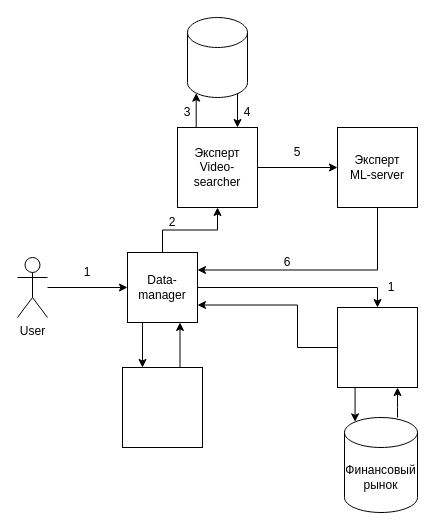
Image size: 439x530. Some labels were removed from this diagram. The shapes that lost their labels are listed below. From the top down, each one's centre as x and y in pixels, then its label:
At point 217,57: "YouTube".
At point 377,347: "Market-data-fetcher".
At point 162,407: "Prediction module".
